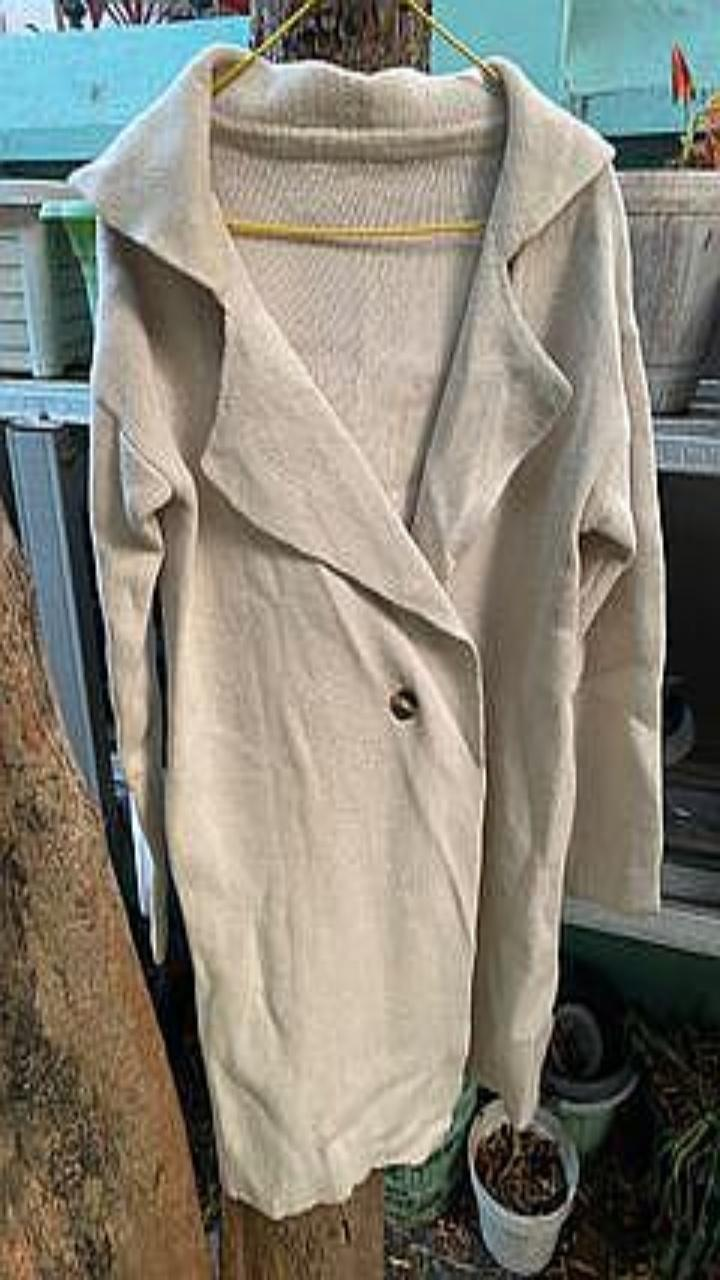Coat: (72, 46, 663, 1216)
